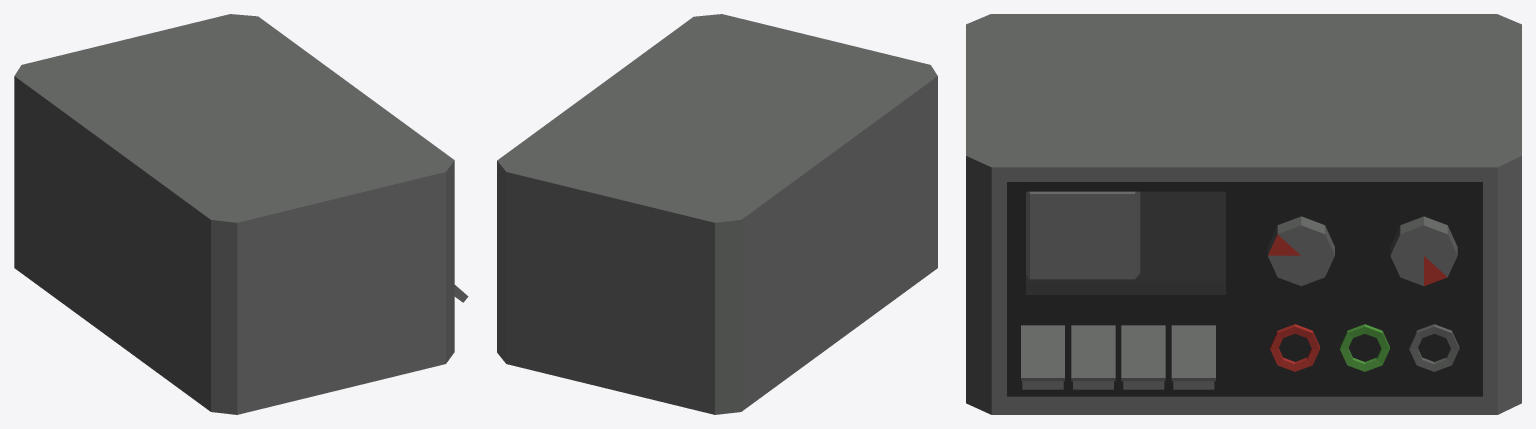
Rendered from SM_Radio_01.glb.
3 renders of one model, left to right at view 1: azimuth 30°, elevation 25°; view 2: azimuth 150°, elevation 25°; view 3: azimuth 270°, elevation 25°, orthographic. The views are drawn at different scales.
Parts seen in each view (by area): view 1: SM_Radio_01; view 2: SM_Radio_01; view 3: SM_Radio_01.
Part boxes in pixels (x1,y1,x2,y2): SM_Radio_01: [14, 14, 468, 414]; SM_Radio_01: [497, 14, 937, 414]; SM_Radio_01: [966, 14, 1521, 414].
Bounding box in the file's own units: 0.3601 × 0.2454 × 0.4995.
1 material, 1 textured.
